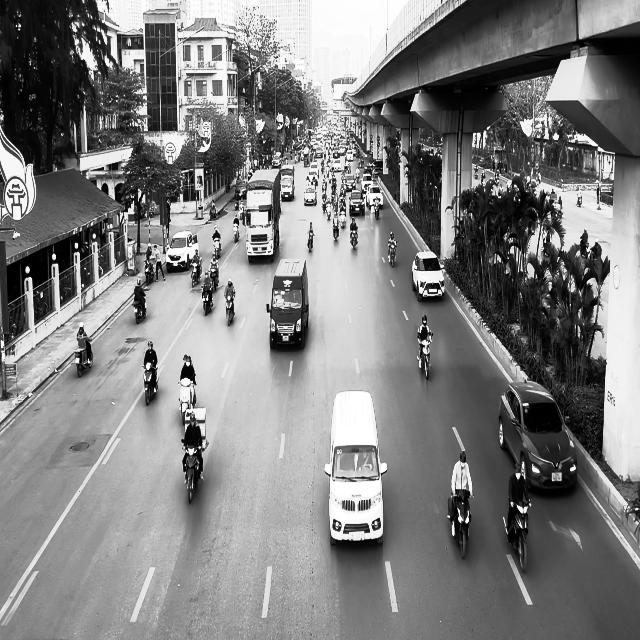bus: (245, 168, 282, 263)
car: (324, 390, 388, 546), (498, 379, 577, 491), (411, 250, 445, 301), (166, 230, 198, 272), (348, 190, 364, 217)
motorbike: (502, 499, 532, 572), (182, 438, 210, 504), (447, 491, 473, 559), (178, 378, 196, 425), (417, 331, 433, 380), (74, 336, 93, 377), (142, 363, 158, 405), (224, 291, 236, 326), (202, 284, 214, 316), (133, 296, 146, 324), (190, 259, 202, 287), (144, 259, 154, 284), (388, 241, 397, 267), (208, 268, 218, 290), (332, 214, 340, 240), (350, 226, 358, 250), (213, 239, 221, 258), (307, 231, 314, 252), (373, 198, 380, 219), (233, 222, 239, 242)
truck: (266, 258, 309, 350)
